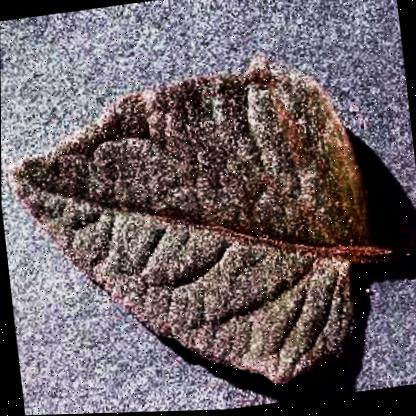Healthy: (0, 33, 415, 416)
